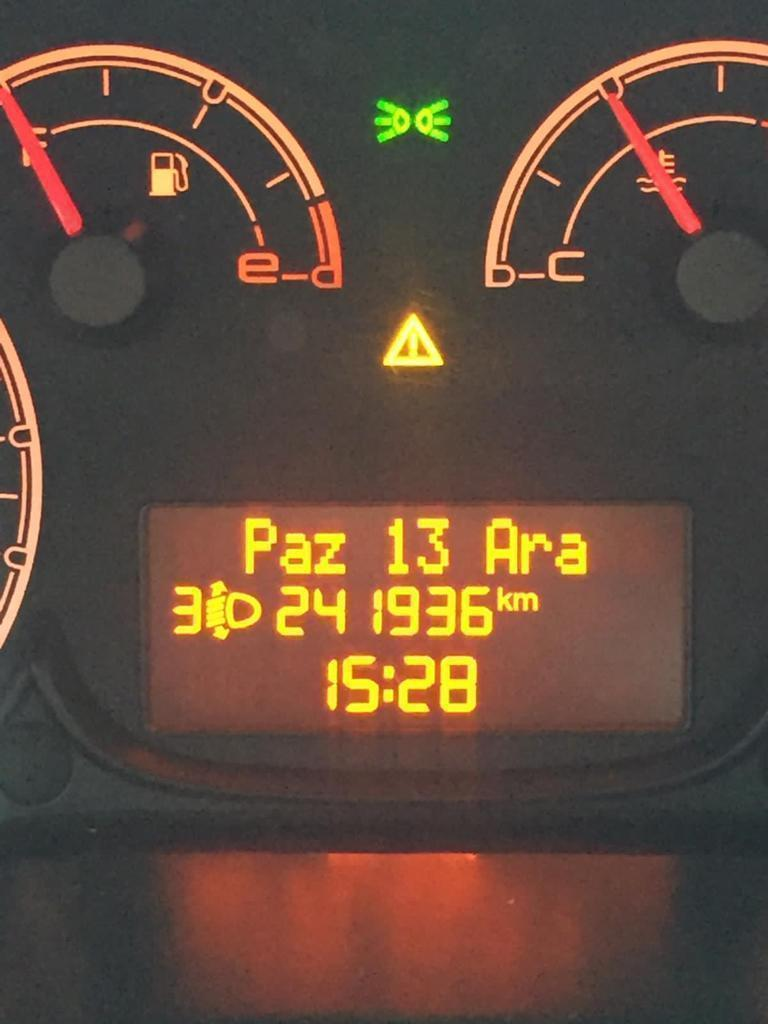1: (318, 651, 343, 721), (384, 510, 410, 577), (372, 583, 385, 640)
2: (399, 649, 436, 719), (273, 583, 309, 639)
3: (414, 514, 450, 576), (169, 583, 202, 643), (426, 583, 455, 644)
4: (313, 583, 349, 639)
5: (342, 652, 379, 719)
6: (458, 578, 491, 642)
8: (440, 654, 482, 718)
9: (387, 583, 419, 638)
X: (242, 511, 278, 577), (483, 515, 520, 577), (313, 524, 349, 577), (557, 528, 591, 577), (282, 529, 310, 580), (520, 530, 550, 576), (383, 659, 396, 709), (513, 590, 538, 613), (496, 583, 512, 612)
odometer: (141, 492, 692, 736)
